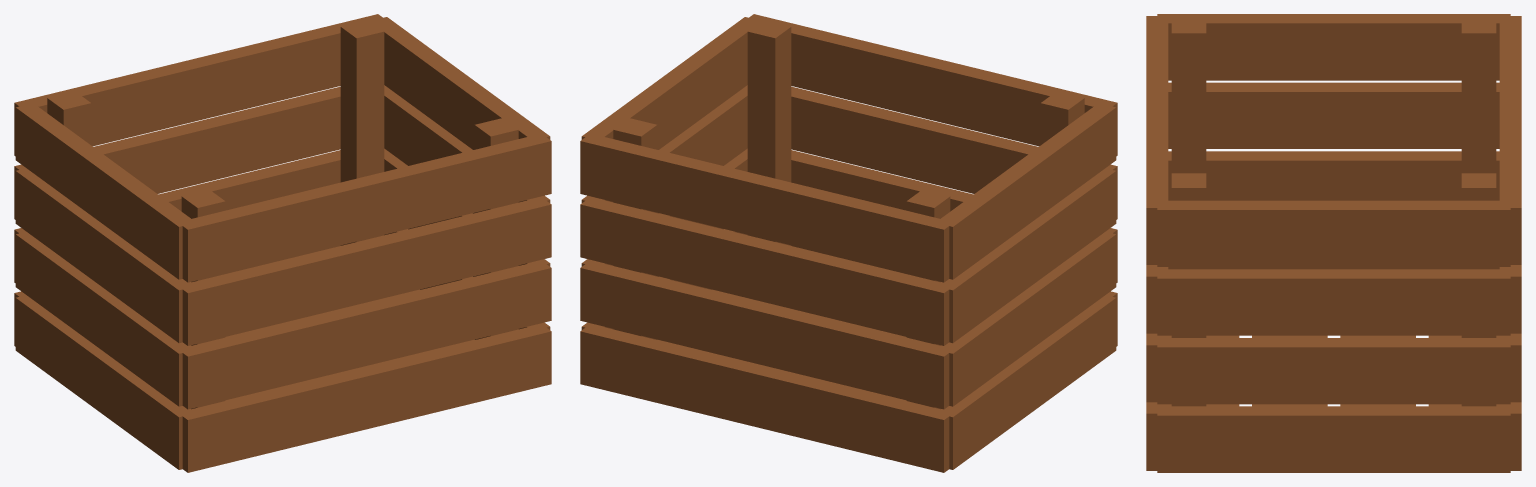
Rendered from market-crate.obj.
3 renders of one model, left to right at view 1: azimuth 30°, elevation 25°; view 2: azimuth 150°, elevation 25°; view 3: azimuth 270°, elevation 25°, orthographic. The views are drawn at different scales.
Bounding box in the file's own units: 0.735 × 0.49 × 0.595.
